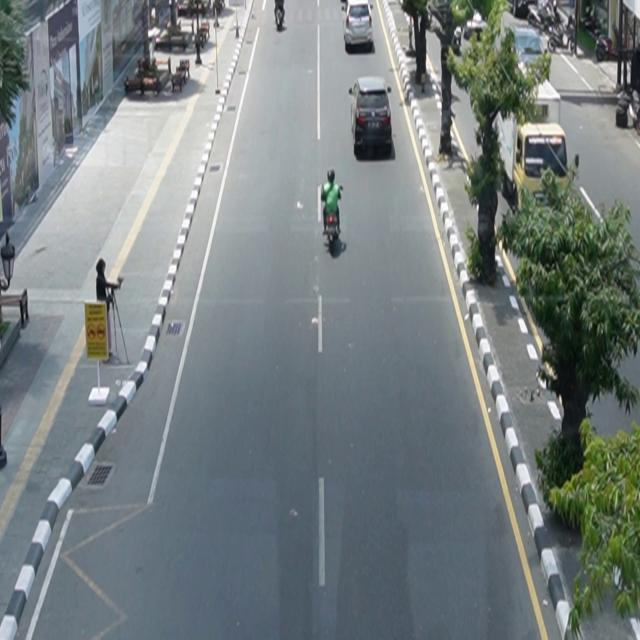car: (349, 76, 393, 156), (343, 1, 374, 53)
